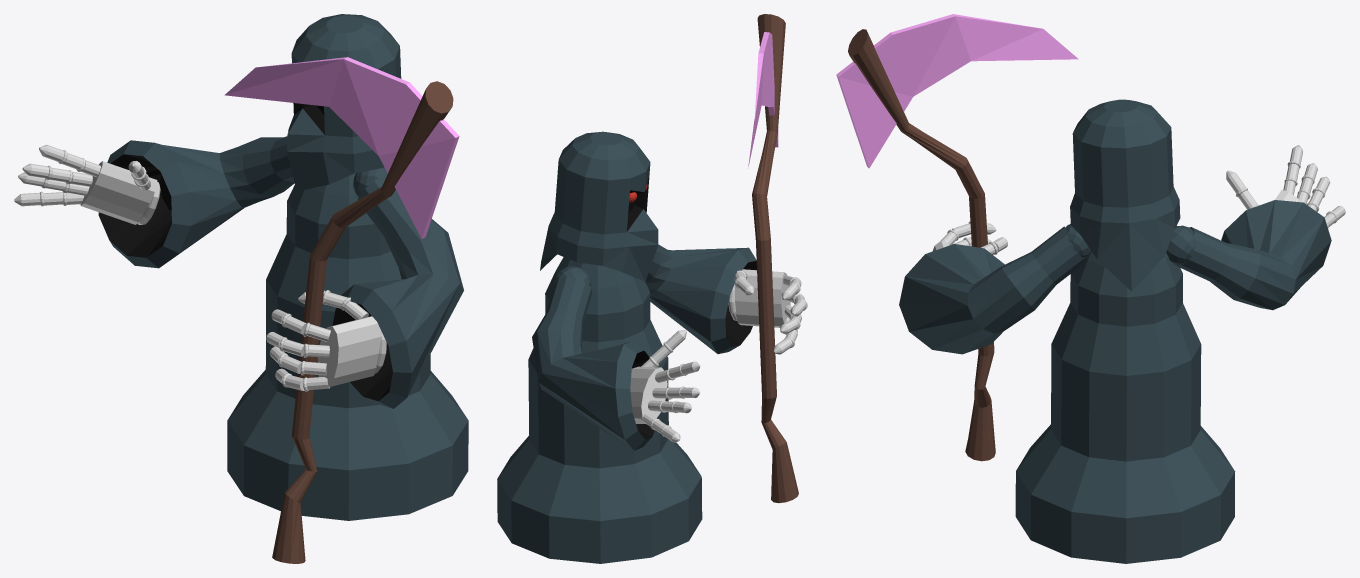
Rendered from model-fixed.glb.
3 renders of one model, left to right at view 1: azimuth 30°, elevation 25°; view 2: azimuth 150°, elevation 25°; view 3: azimuth 270°, elevation 25°, orthographic. The views are drawn at different scales.
Parts seen in each view (by area): view 1: node_MeshObject765071040-PolyPaper17, node_MeshObject1802511168-PolyPaper21, node_MeshObject1283791104-PolyGem25; view 2: node_MeshObject765071040-PolyPaper17, node_MeshObject1802511168-PolyPaper21, node_MeshObject1283791104-PolyGem25; view 3: node_MeshObject765071040-PolyPaper17, node_MeshObject1802511168-PolyPaper21, node_MeshObject1283791104-PolyGem25.
Boxes of the visible parts, <box> form: node_MeshObject765071040-PolyPaper17: <box>80,14,468,563</box>; node_MeshObject1802511168-PolyPaper21: <box>14,136,294,268</box>; node_MeshObject1283791104-PolyGem25: <box>224,57,459,238</box>; node_MeshObject765071040-PolyPaper17: <box>497,14,807,563</box>; node_MeshObject1802511168-PolyPaper21: <box>532,183,700,450</box>; node_MeshObject1283791104-PolyGem25: <box>748,32,778,168</box>; node_MeshObject765071040-PolyPaper17: <box>848,29,1301,563</box>; node_MeshObject1802511168-PolyPaper21: <box>1166,145,1345,310</box>; node_MeshObject1283791104-PolyGem25: <box>836,14,1078,168</box>.
Bounding box in the file's own units: 0.727 × 1.08 × 1.08.
